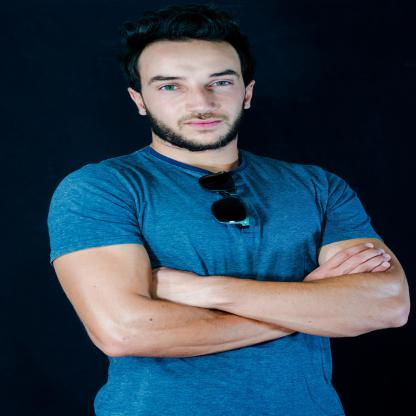Eye: (204, 78, 237, 92), (156, 80, 186, 94)
Mouth: (181, 116, 228, 132)
Nose: (187, 90, 220, 113)
